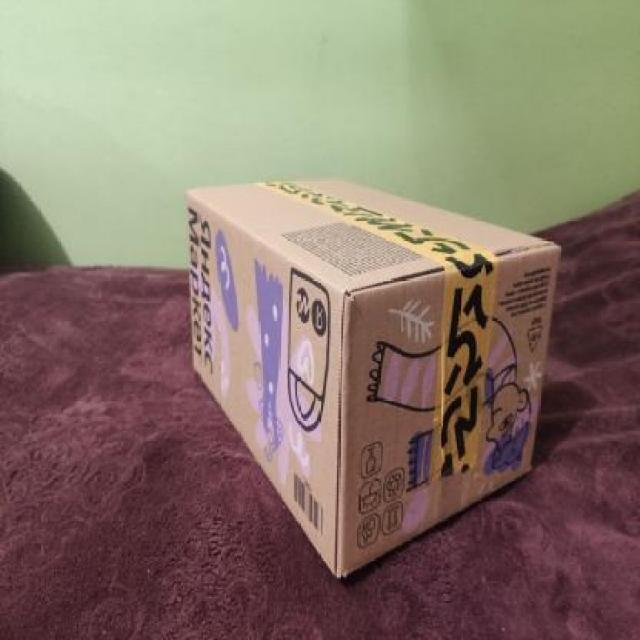box: (183, 164, 560, 568)
